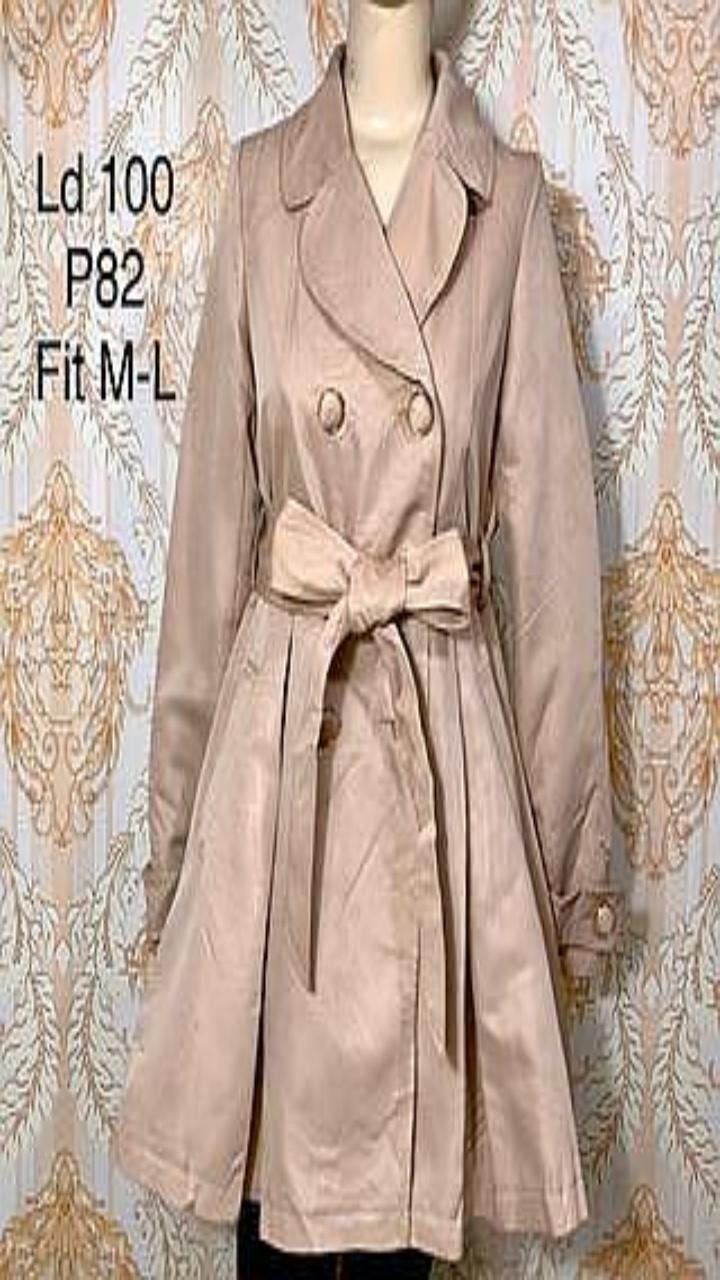Coat: (112, 43, 623, 1259)
Jeans: (238, 1202, 431, 1279)
